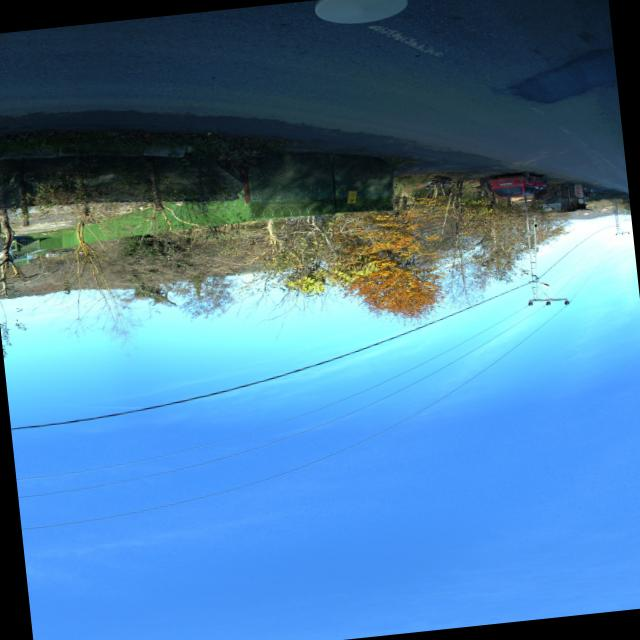Utility Pole Information Plate: (533, 223, 535, 226)
